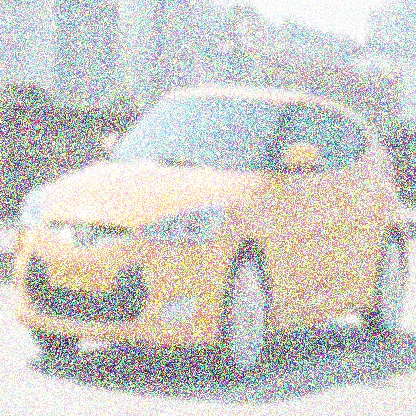Vehicle: (12, 82, 413, 380)
